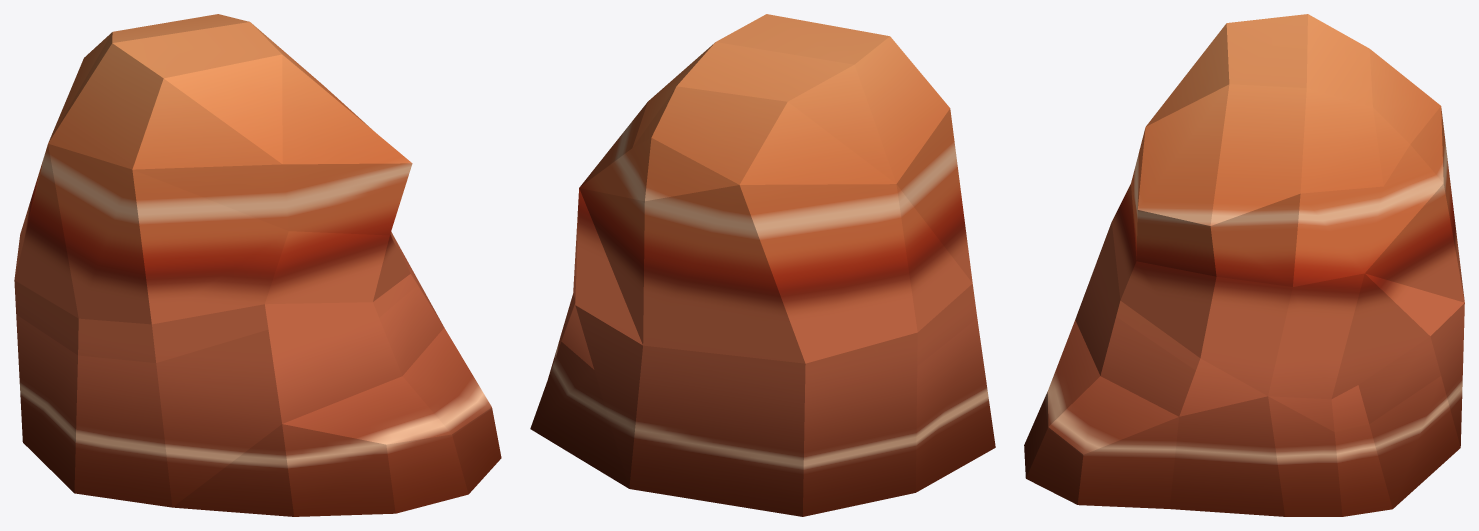
Rendered from RockCanyon3.fbx.
The picture shows the model from 3 angles, left to right: view 1: azimuth 30°, elevation 25°; view 2: azimuth 150°, elevation 25°; view 3: azimuth 270°, elevation 25°; orthographic projection. The views are drawn at different scales.
Parts seen in each view (by area): view 1: RockCanyon3; view 2: RockCanyon3; view 3: RockCanyon3.
Part boxes in pixels (x1,y1,x2,y2): RockCanyon3: (14,14,501,516); RockCanyon3: (530,14,995,516); RockCanyon3: (1024,14,1464,516).
Size of the model in its own units: 51.32 by 50.84 by 54.87.
